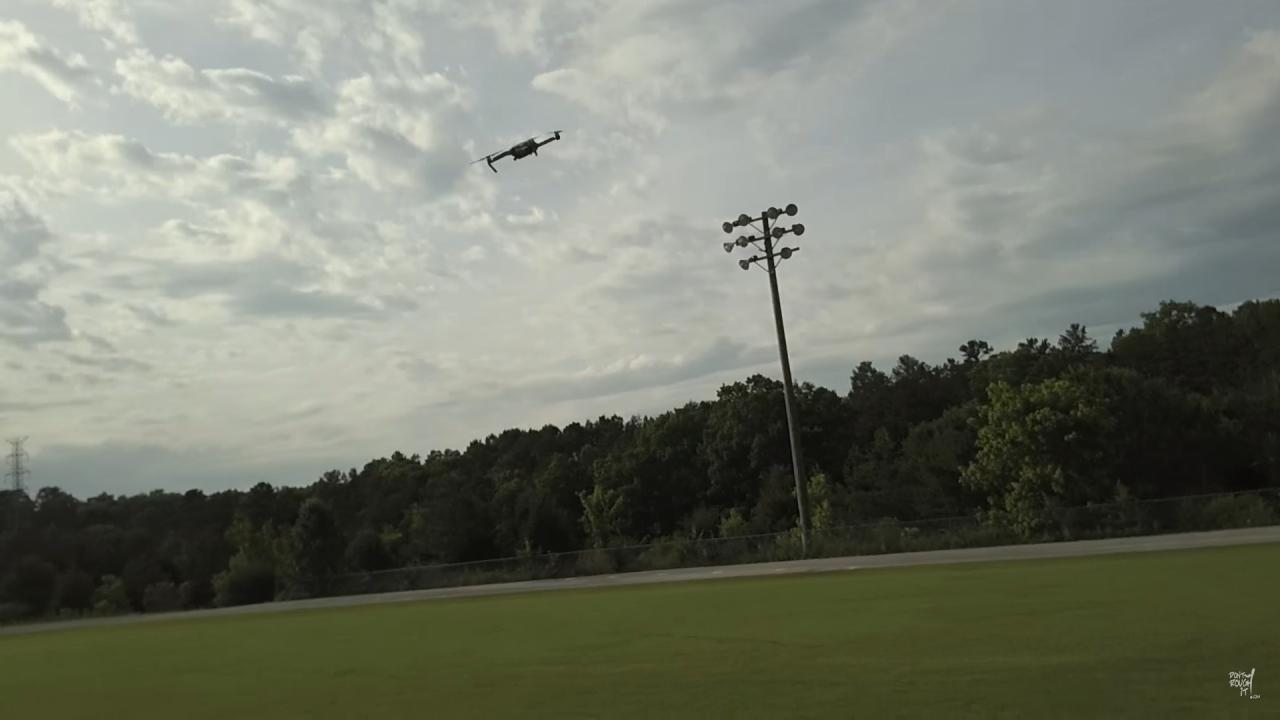Drone: (472, 119, 571, 182)
